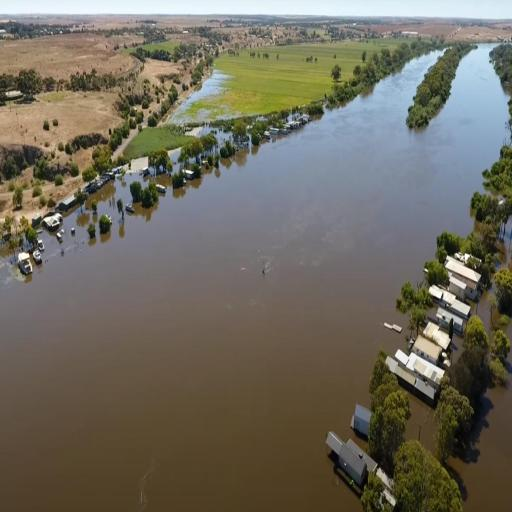flood: (0, 43, 509, 510), (449, 349, 512, 511), (406, 392, 437, 454), (479, 291, 494, 340), (502, 221, 512, 266), (501, 317, 512, 342), (88, 196, 92, 204)
house: (325, 427, 396, 512), (383, 348, 446, 406), (428, 283, 472, 336), (444, 251, 481, 305), (411, 330, 443, 368), (352, 399, 375, 441), (424, 319, 451, 350), (42, 212, 62, 233)
